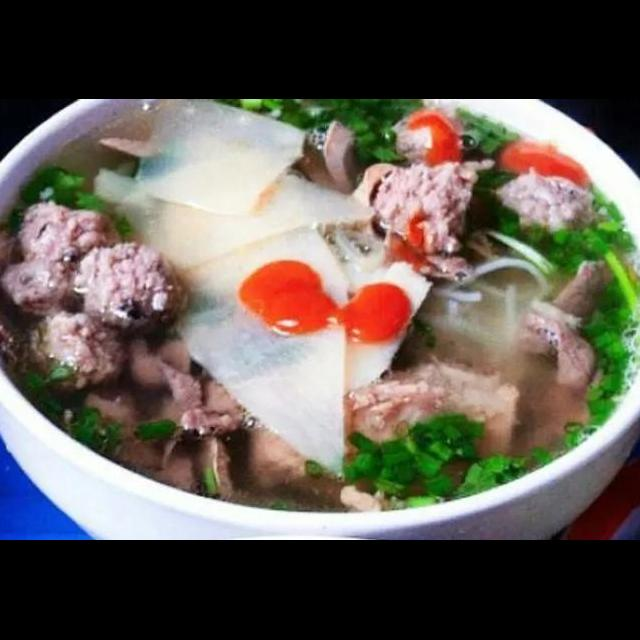vien moc: (373, 156, 493, 286), (0, 197, 127, 318), (72, 242, 197, 338), (13, 306, 133, 390), (494, 164, 605, 246)
